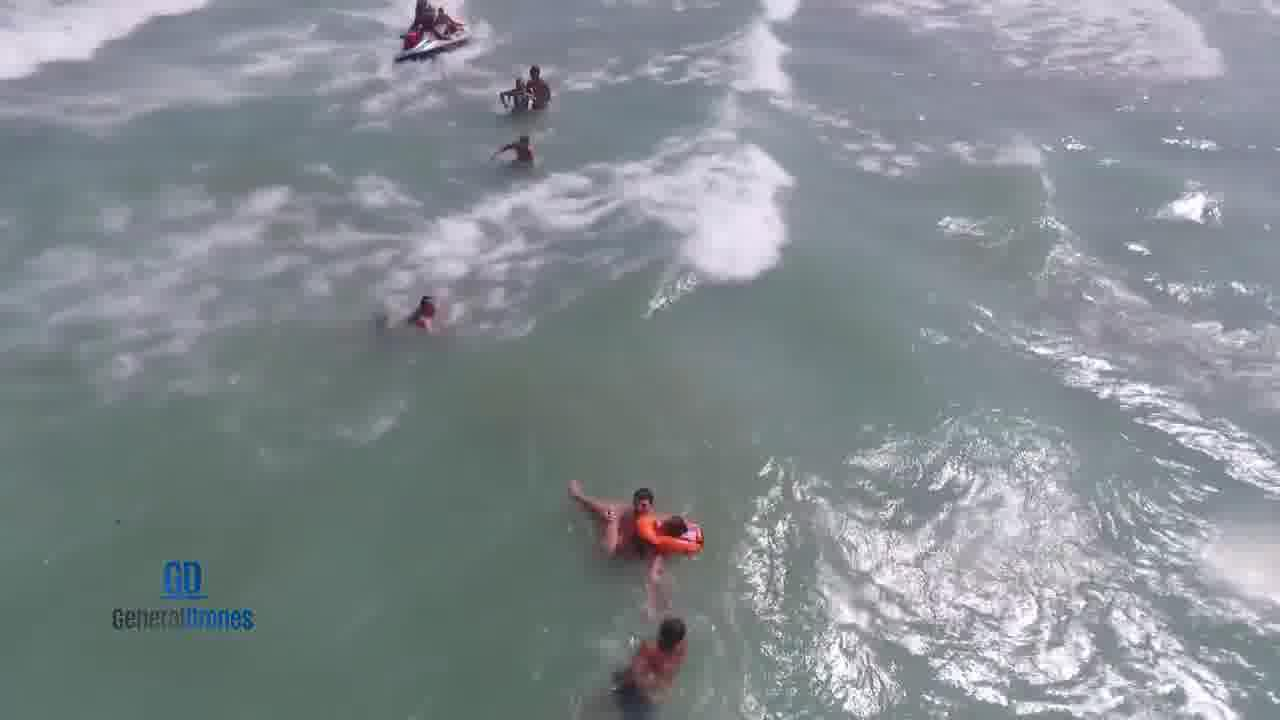human: (566, 483, 704, 590), (602, 615, 695, 719), (392, 290, 450, 343), (489, 131, 548, 171), (619, 488, 674, 515)
